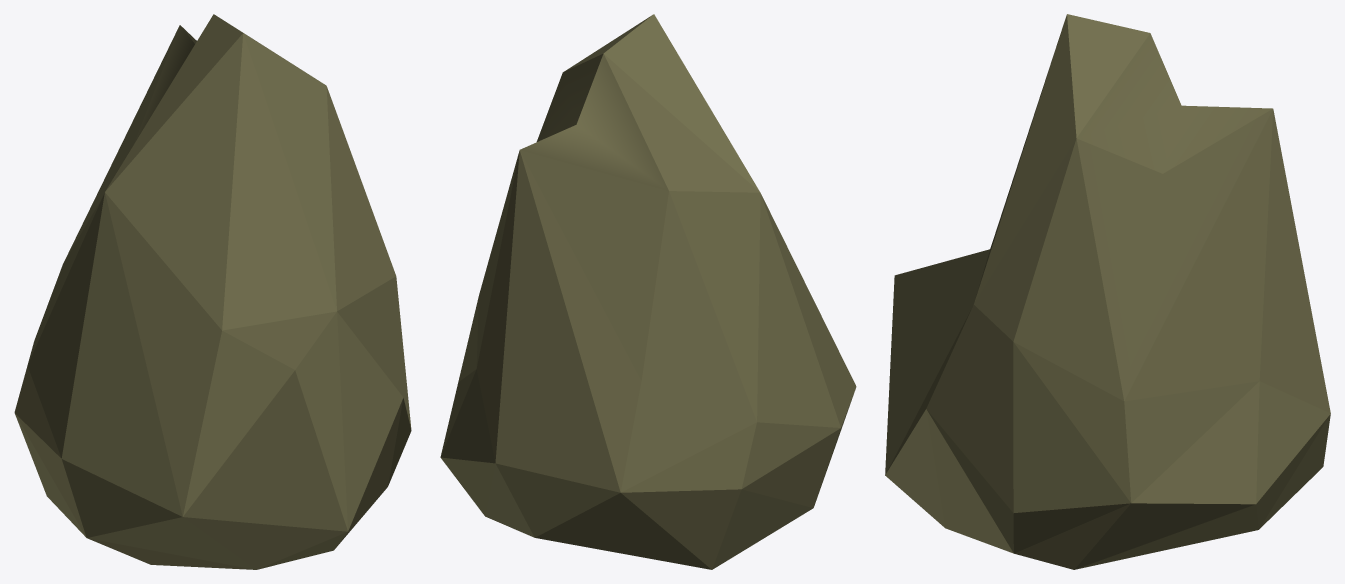
The model's file is SM_Env_Bush_Small_02.fbx.
The picture shows the model from 3 angles, left to right: view 1: azimuth 30°, elevation 25°; view 2: azimuth 150°, elevation 25°; view 3: azimuth 270°, elevation 25°; orthographic projection. The views are drawn at different scales.
Parts seen in each view (by area): view 1: SM_Env_Bush_Small_02; view 2: SM_Env_Bush_Small_02; view 3: SM_Env_Bush_Small_02.
Boxes of the visible parts, bbox=[...] form: SM_Env_Bush_Small_02: bbox=[14, 14, 411, 569]; SM_Env_Bush_Small_02: bbox=[440, 14, 856, 569]; SM_Env_Bush_Small_02: bbox=[885, 14, 1330, 569].
Bounding box in the file's own units: 81.92 × 112 × 86.65.
